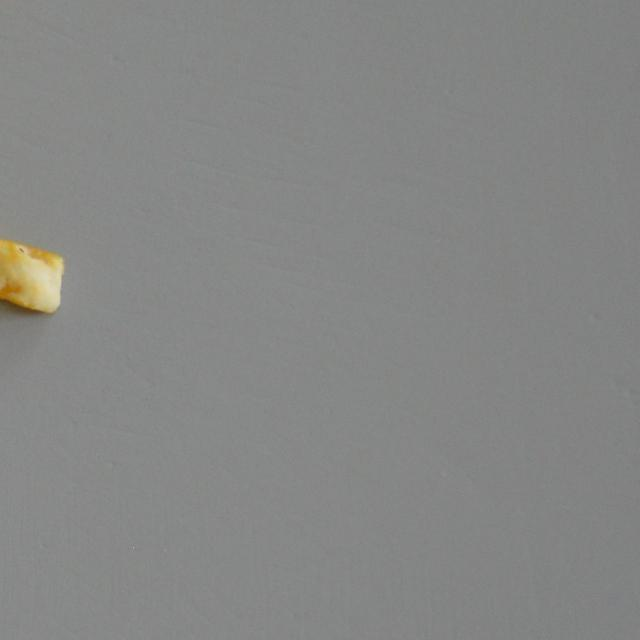punto_negro: (0, 232, 66, 316)
